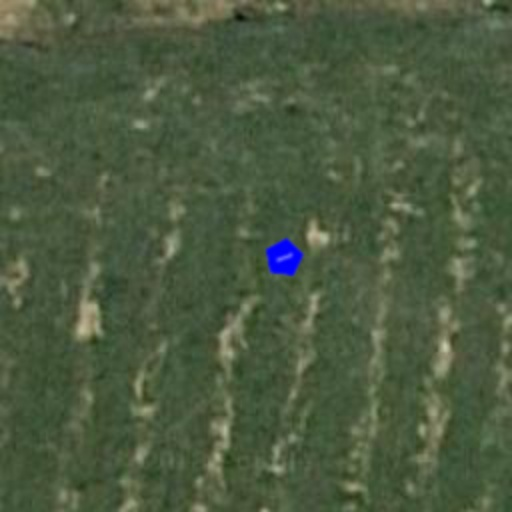pentagon: (256, 230, 312, 286)
